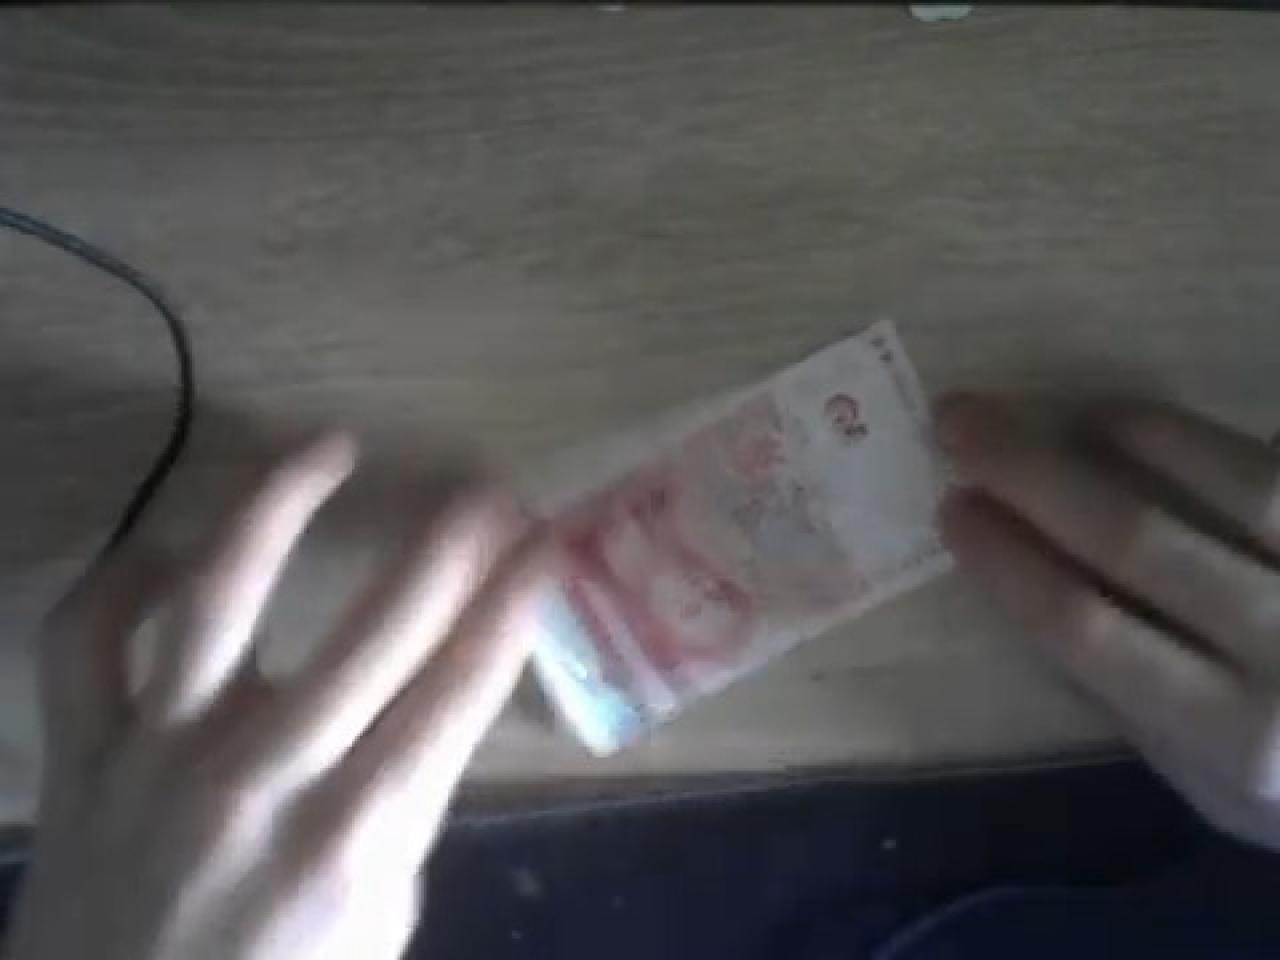5leva: (531, 315, 952, 757)
